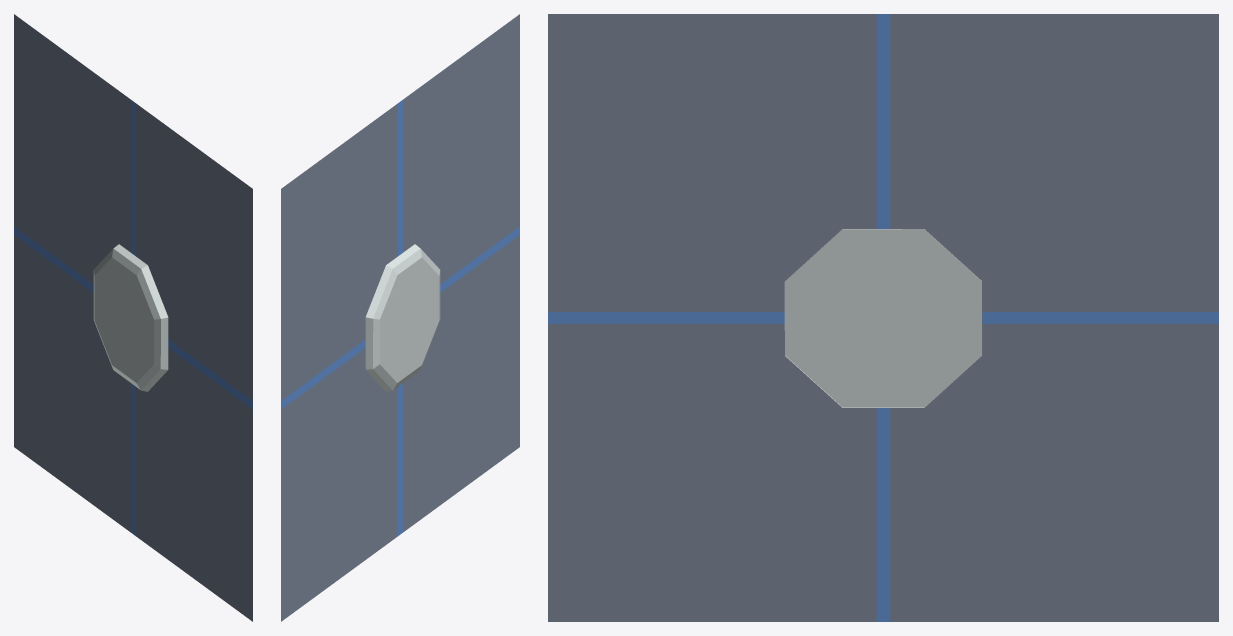
The model's file is WallCenter.fbx.
The picture shows the model from 3 angles, left to right: view 1: azimuth 30°, elevation 25°; view 2: azimuth 150°, elevation 25°; view 3: azimuth 270°, elevation 25°; orthographic projection. The views are drawn at different scales.
Visible parts, largest first — view 1: WallCenter; view 2: WallCenter; view 3: WallCenter.
Part boxes in pixels (box(x1,y1,x2,y2)): WallCenter: box(14, 14, 252, 621); WallCenter: box(281, 14, 519, 621); WallCenter: box(548, 14, 1218, 621).
Size of the model in its own units: 2.44 by 100 by 100.
1 material, 1 textured.
